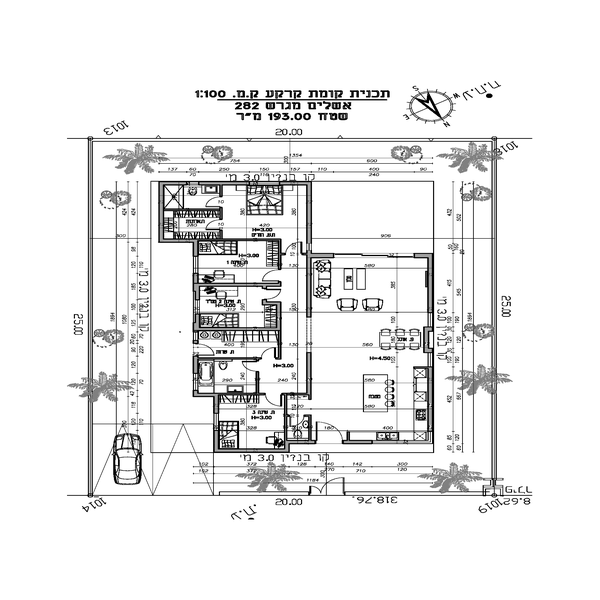door: (310, 411, 349, 445), (309, 464, 347, 498), (191, 336, 220, 361), (199, 213, 224, 233), (263, 394, 287, 414), (201, 194, 225, 211), (237, 360, 263, 372), (263, 270, 281, 285), (261, 344, 278, 359)
room: (301, 246, 437, 446), (149, 173, 313, 249), (214, 391, 293, 460), (190, 236, 287, 292), (188, 280, 282, 336), (190, 328, 263, 399)
wall: (84, 134, 101, 503), (156, 175, 308, 193), (301, 166, 317, 251), (301, 253, 321, 317), (196, 278, 277, 293), (424, 364, 439, 442), (164, 233, 204, 262), (420, 249, 438, 312), (216, 445, 294, 459), (207, 236, 283, 248), (152, 180, 166, 244), (190, 324, 278, 334), (304, 351, 315, 406), (272, 299, 285, 326), (273, 231, 282, 269), (210, 429, 222, 453)
window: (331, 248, 415, 264)
